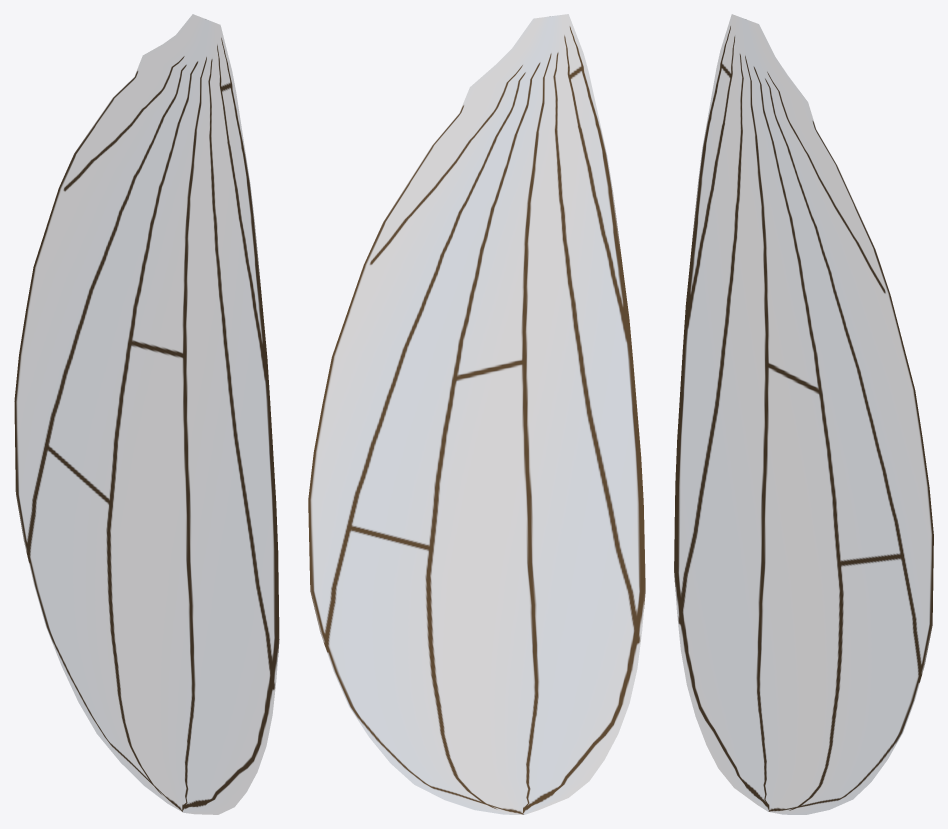
File: wing_left_wing.obj
3 views of the same model, side by side, from view 1: azimuth 90°, elevation 25°; view 2: azimuth 150°, elevation 25°; view 3: azimuth 270°, elevation 25° (orthographic).
Size of the model in its own units: 0.0705 by 0.2595 by 0.0778.
1 material, 1 textured.
